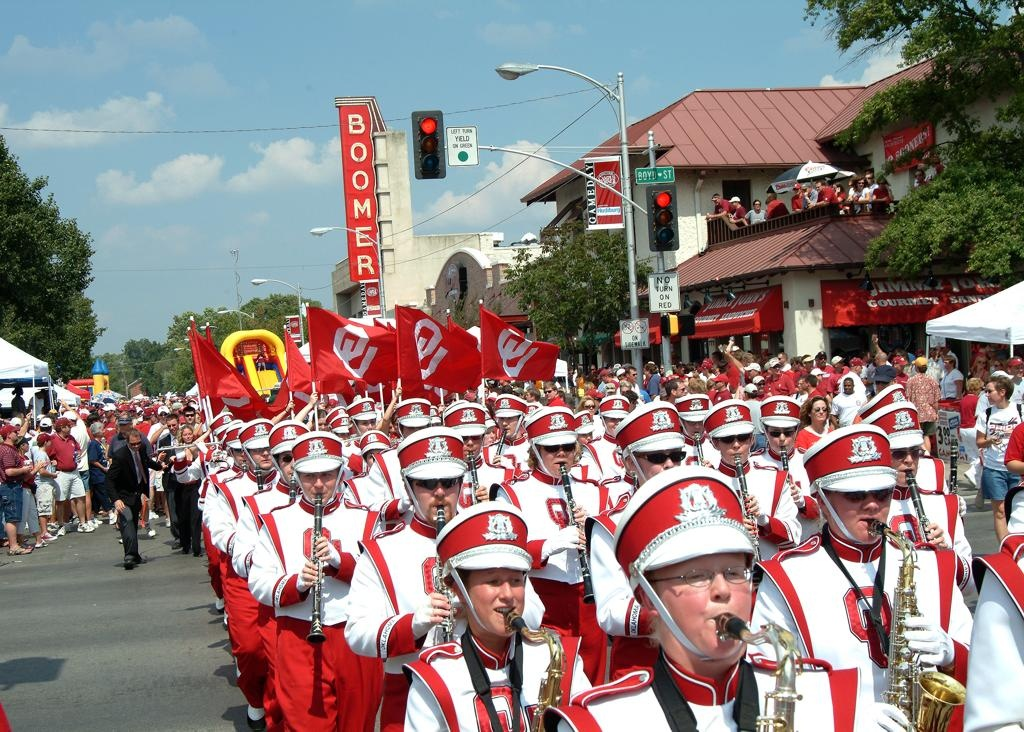human_face: (650, 537, 750, 657), (464, 559, 524, 635), (826, 475, 892, 544), (410, 467, 460, 524), (634, 443, 680, 491), (881, 440, 919, 486), (536, 434, 574, 476), (298, 464, 338, 503), (718, 427, 750, 465), (766, 420, 796, 454), (278, 450, 306, 484), (452, 430, 480, 462), (248, 441, 276, 469), (402, 421, 428, 447), (364, 446, 388, 472), (605, 414, 627, 436), (684, 414, 704, 438), (232, 444, 252, 466), (498, 414, 518, 436), (476, 427, 496, 449), (356, 417, 376, 437), (984, 384, 1000, 405), (811, 400, 827, 419), (874, 378, 890, 395), (576, 429, 592, 446), (314, 419, 328, 435), (582, 400, 594, 415), (129, 436, 141, 450), (166, 420, 178, 434), (674, 383, 686, 397), (1012, 364, 1024, 376), (182, 428, 192, 442), (754, 380, 764, 394), (842, 380, 852, 393), (184, 411, 194, 423), (8, 430, 18, 440), (62, 423, 72, 433), (158, 412, 168, 422), (119, 421, 129, 431), (628, 369, 636, 381), (864, 173, 872, 185), (620, 387, 628, 398), (150, 412, 158, 422), (525, 391, 533, 401), (544, 388, 552, 398), (606, 385, 614, 395), (814, 182, 822, 192), (914, 172, 922, 182), (746, 359, 754, 369), (818, 356, 826, 366), (796, 380, 804, 390), (746, 368, 754, 378), (850, 364, 858, 374), (872, 354, 878, 366), (802, 187, 810, 195), (856, 180, 864, 188), (877, 181, 885, 189), (714, 380, 722, 388), (764, 366, 772, 374), (942, 361, 950, 369), (977, 359, 985, 367), (993, 362, 1001, 370), (896, 362, 904, 370), (894, 353, 902, 361), (803, 360, 811, 368), (98, 426, 104, 436), (801, 378, 807, 388), (796, 360, 802, 370), (22, 442, 28, 451), (104, 407, 110, 416), (195, 413, 201, 422), (566, 370, 572, 379), (816, 372, 822, 381), (44, 438, 50, 446), (643, 368, 649, 376), (588, 367, 594, 375), (616, 375, 624, 381), (767, 193, 773, 201), (932, 154, 938, 162), (678, 366, 684, 374), (700, 367, 706, 375), (712, 354, 718, 362), (777, 354, 783, 362), (14, 423, 20, 431), (18, 388, 24, 394), (600, 376, 606, 382), (712, 199, 718, 205), (730, 200, 736, 206), (754, 202, 760, 208), (794, 189, 798, 195), (836, 186, 840, 192), (660, 366, 664, 372)
